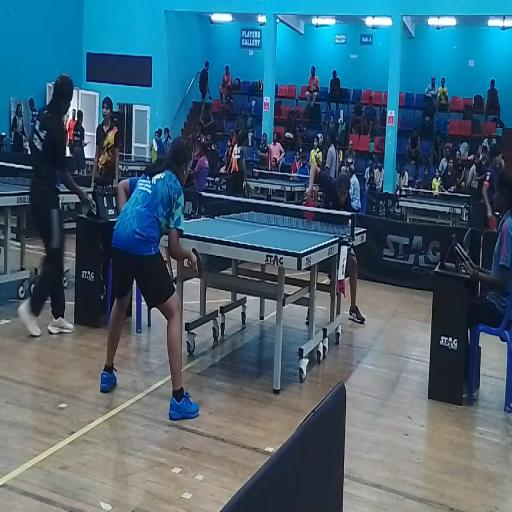ball: (348, 218, 352, 224)
